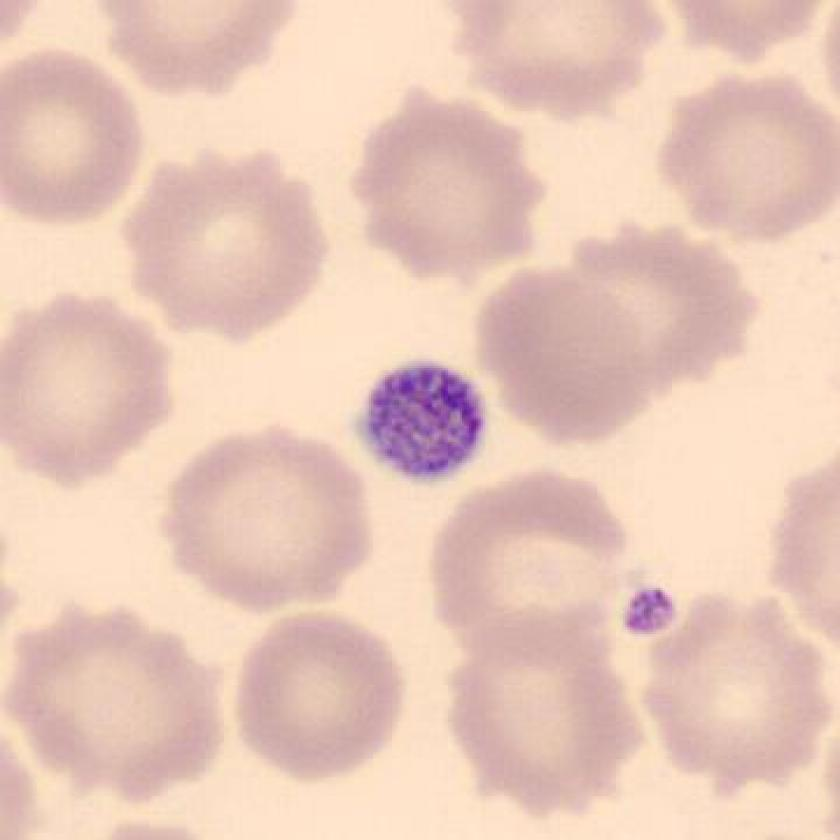platelets: (349, 351, 486, 492), (620, 582, 683, 644)
